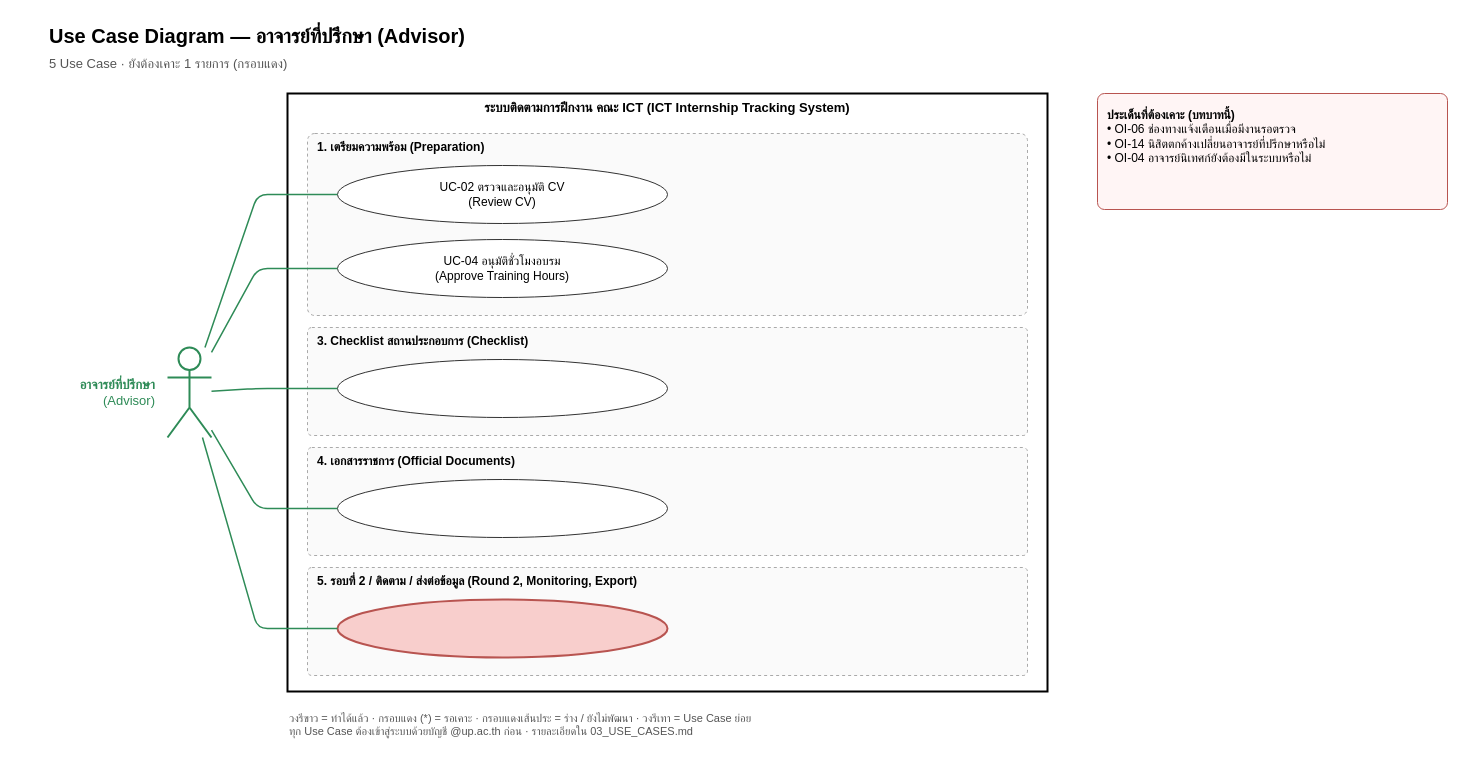
Some shapes in this 1465 by 762 pixel diagram are drawn without their labels. Here are the shapes that lost their labels. From the top down, the centre of each, then its label:
[502,388]: UC-07 อนุมัติ / ตีกลับ Checklist (Review Checklist)
[502,508]: UC-10 ตรวจ / ยืนยันแบบตอบรับ (Verify Acceptance Form)
[502,628]: UC-13 ติดตามผ่าน Dashboard (*) (Monitor Dashboard)
